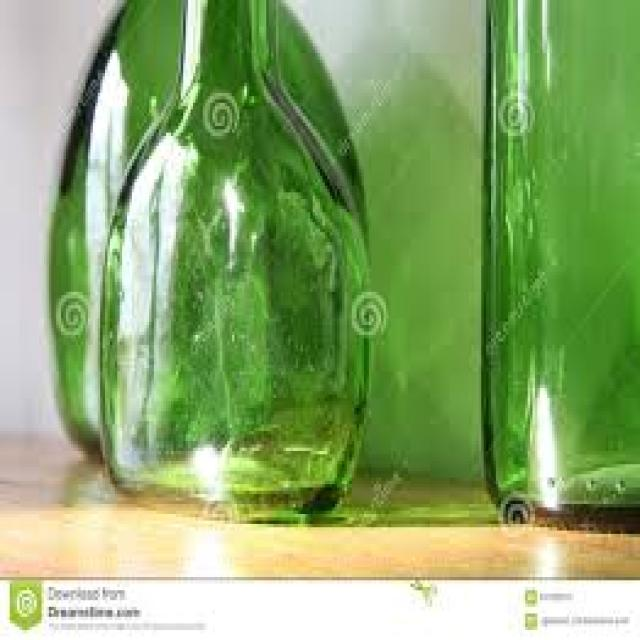glass: (49, 0, 366, 461), (98, 0, 366, 521), (481, 0, 638, 531)
